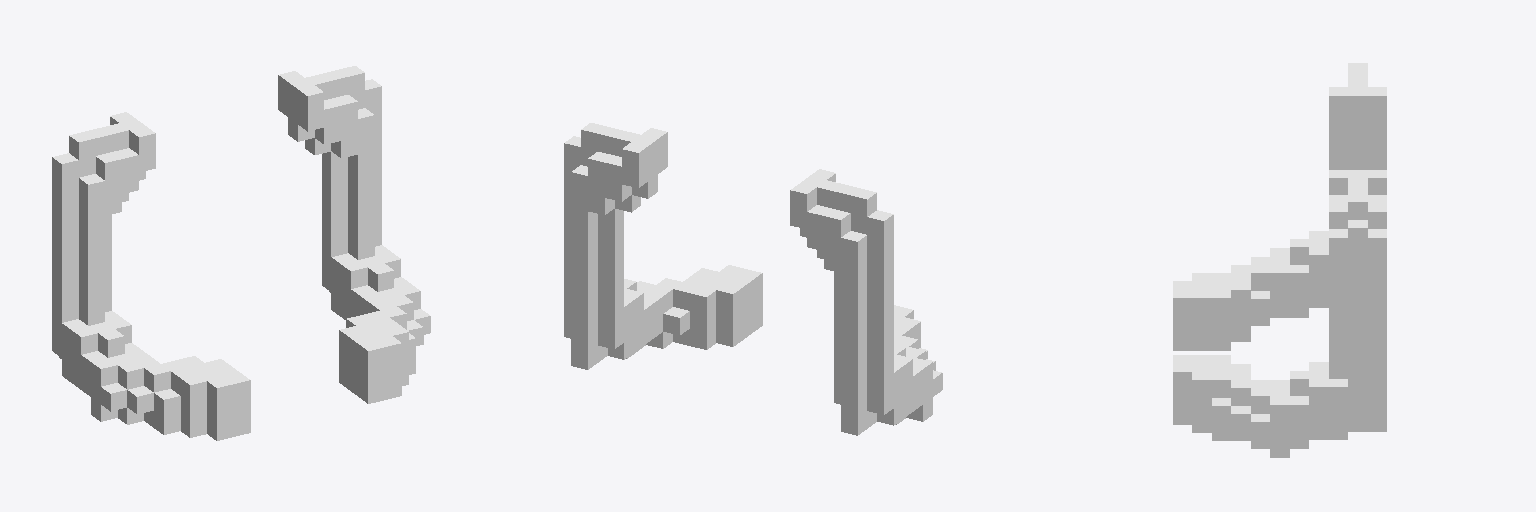
The model's file is arm_middle_001.obj.
3 renders of one model, left to right at view 1: azimuth 30°, elevation 25°; view 2: azimuth 150°, elevation 25°; view 3: azimuth 270°, elevation 25°, orthographic.
Size of the model in its own units: 19 by 14 by 11.